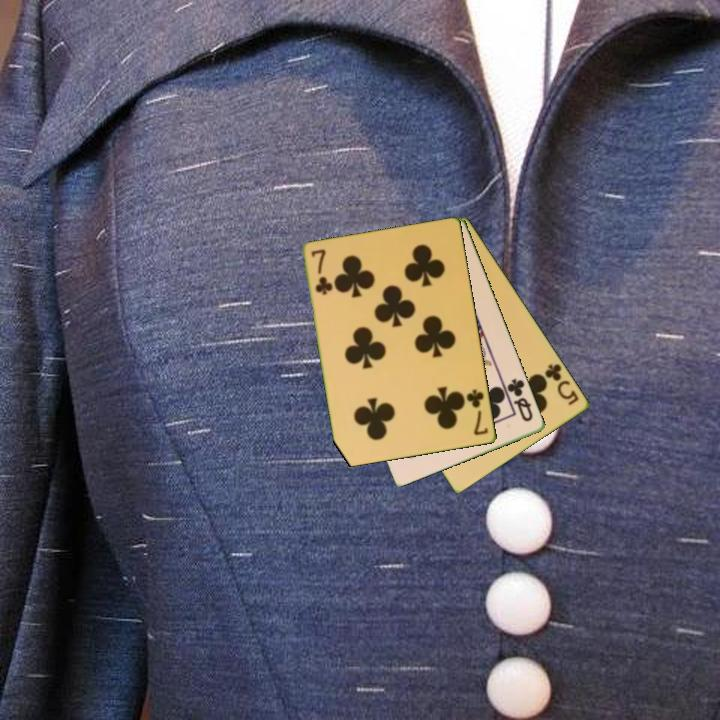5c: (541, 360, 582, 408)
7c: (463, 386, 491, 438), (308, 246, 335, 298)
Qc: (504, 375, 536, 425)
